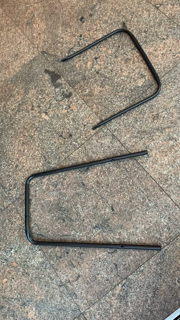C pipe: (63, 29, 165, 133)
U pipe: (24, 150, 164, 253)
